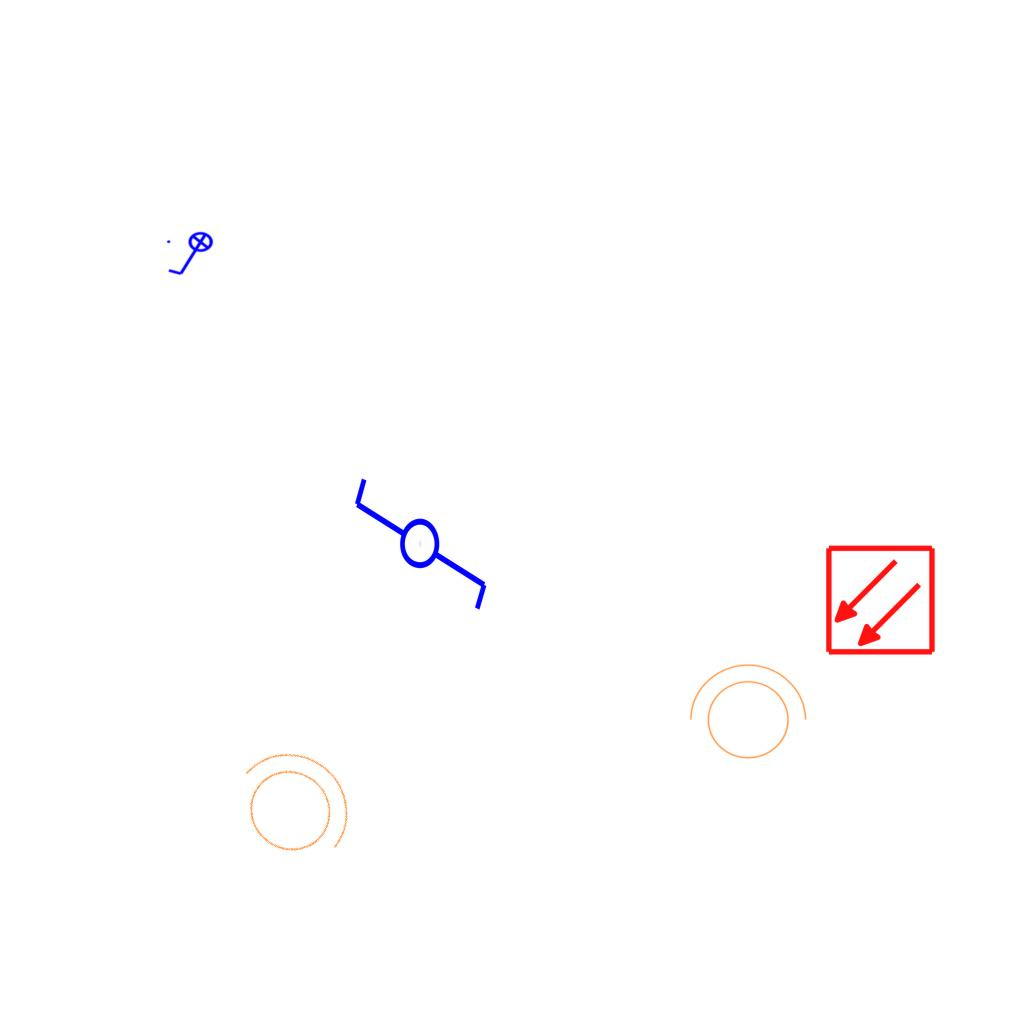Ausschalter_beleuchtet: (164, 231, 220, 279)
RMO_Rauchmelder_optischer: (824, 544, 937, 657)
Scheinwerfer_fuer_Alarmbeleuchtung: (204, 719, 378, 891), (679, 659, 811, 771)
Wechselschalter: (350, 457, 494, 614)
